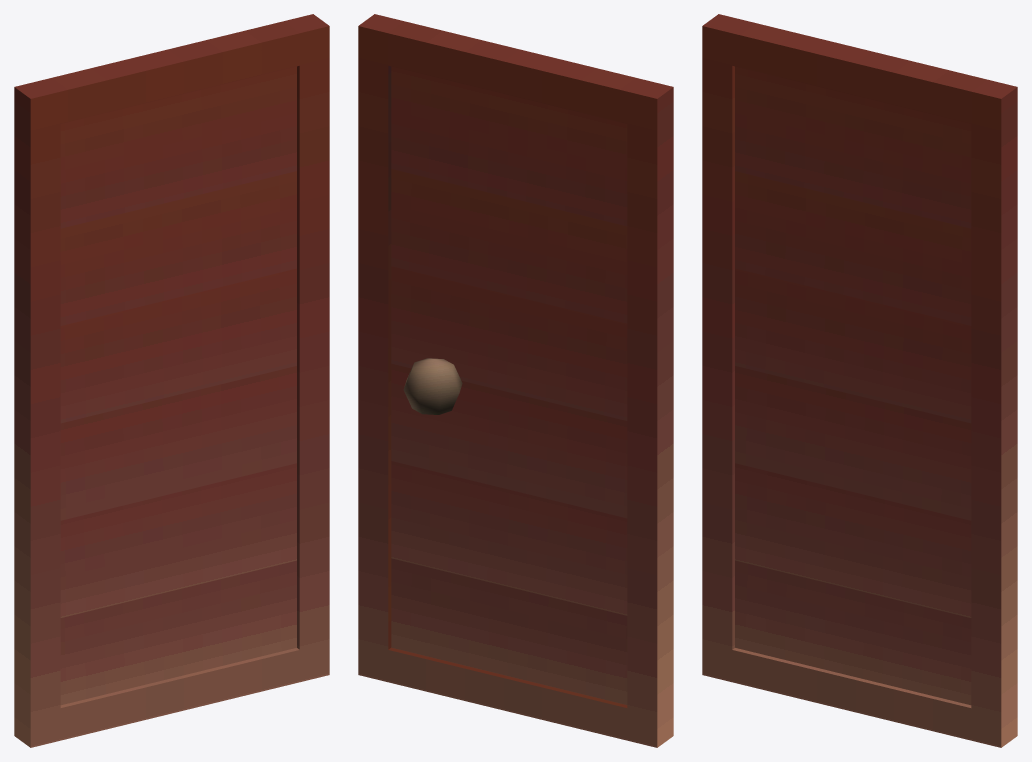
Rendered from Door.FBX.
3 views of the same model, side by side, from view 1: azimuth 30°, elevation 25°; view 2: azimuth 150°, elevation 25°; view 3: azimuth 330°, elevation 25° (orthographic).
Visible parts, largest first — view 1: Door; view 2: Door; view 3: Door.
Part boxes in pixels (<box>): Door: <box>14,14,329,747</box>; Door: <box>358,14,673,747</box>; Door: <box>702,14,1017,747</box>.
Bounding box in the file's own units: 0.1163 × 0.026 × 0.2413.
